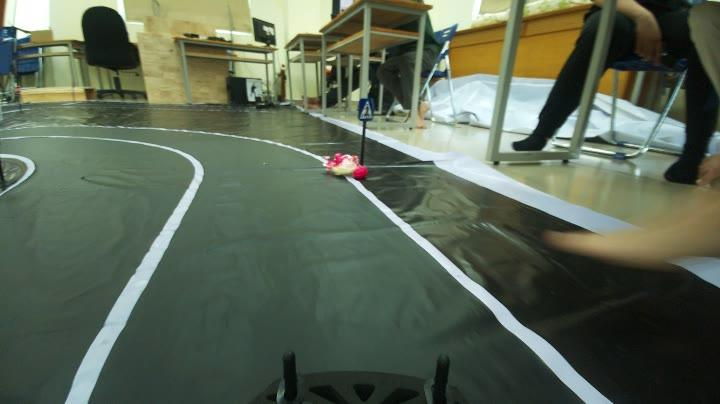crosswalk: (354, 97, 382, 128)
